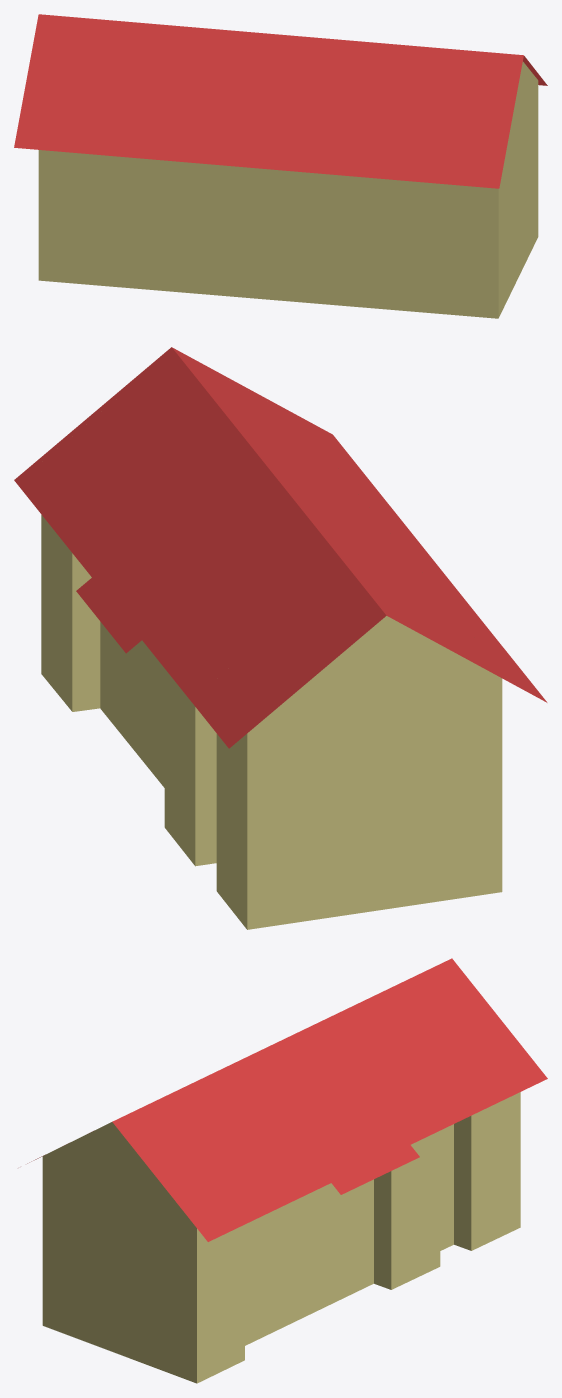
3 views of the same model, one above another, from view 1: azimuth 30°, elevation 25°; view 2: azimuth 150°, elevation 25°; view 3: azimuth 270°, elevation 25° (orthographic). The views are drawn at different scales.
Size of the model in its own units: 28.31 by 27.12 by 13.1.
